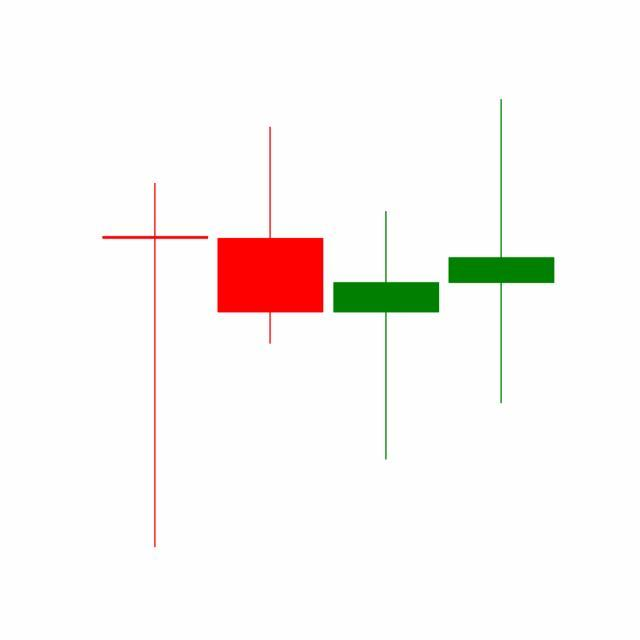Spinning Top: (329, 209, 445, 464)
